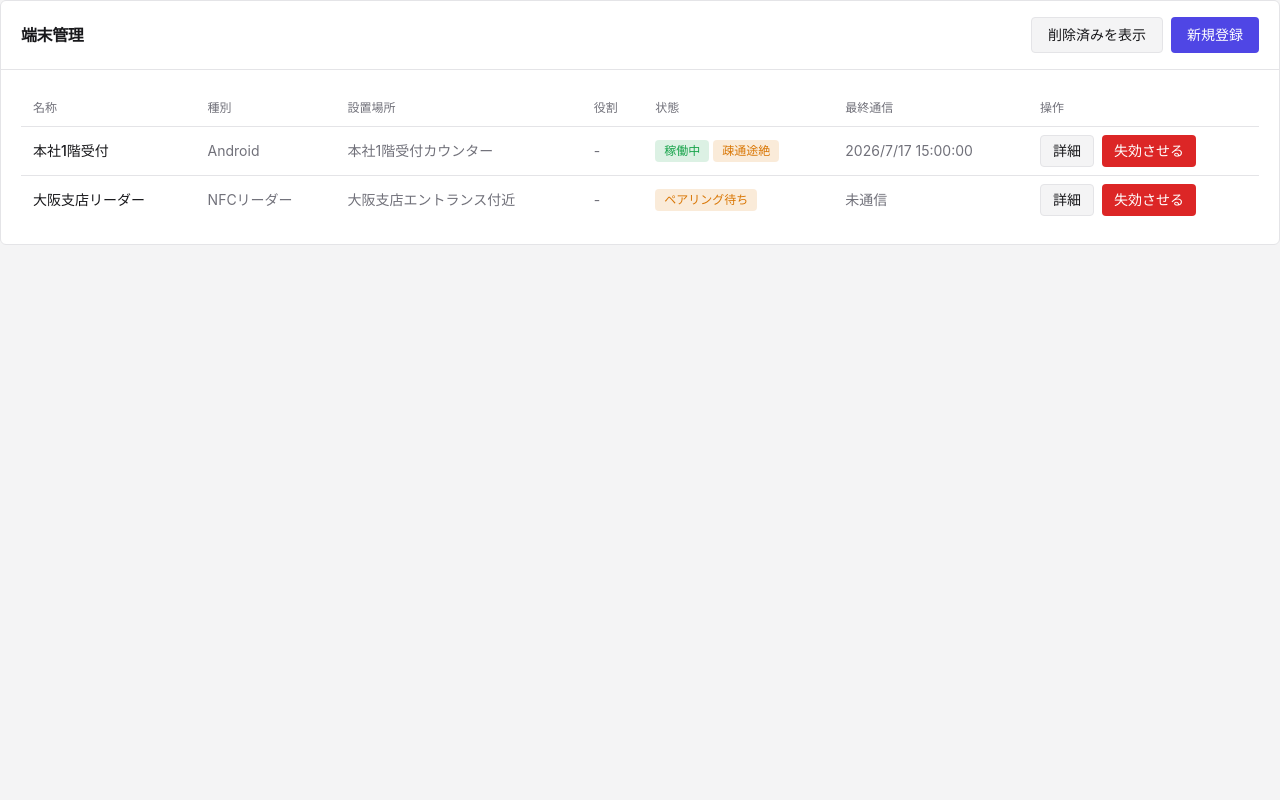
Test: DeviceListPage › opens a confirmation dialog before revoking a device
Expected: the text "本社1階受付" is shown, [21,126,196,175]
Click the button "失効させる" in the row of "Android" at (1149, 150), box [1102,134,1196,166]
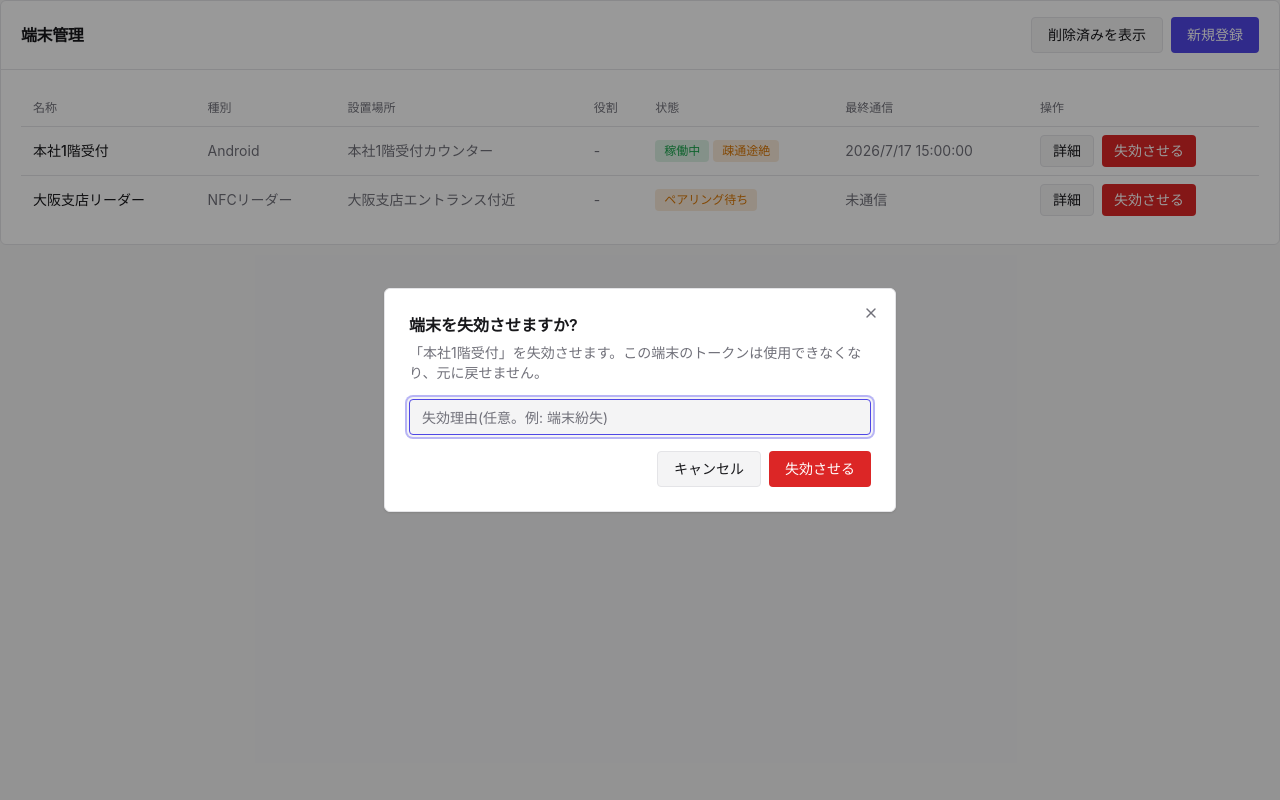
Expected: the heading "端末を失効させますか?" is shown, [409,315,578,335]
